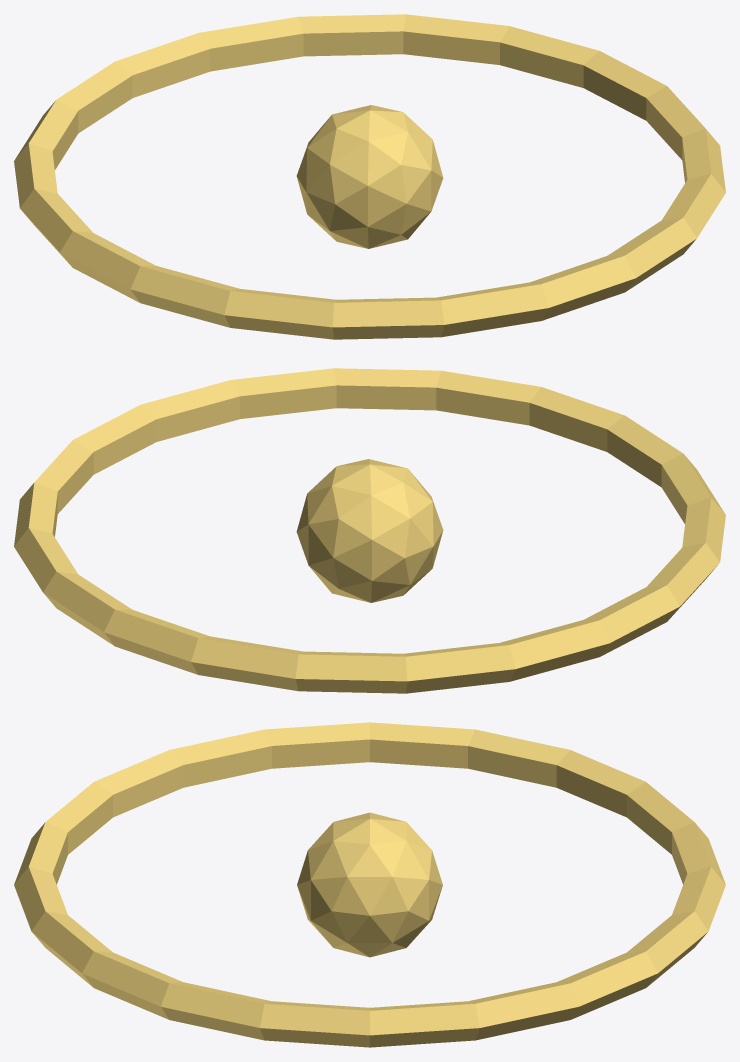
The model's file is grapple_target_marker.glb.
3 views of the same model, one above another, from view 1: azimuth 30°, elevation 25°; view 2: azimuth 150°, elevation 25°; view 3: azimuth 270°, elevation 25° (orthographic).
Visible parts, largest first — view 1: outline_ring, marker_core; view 2: outline_ring, marker_core; view 3: outline_ring, marker_core.
Part boxes in pixels (<box>): outline_ring: <box>14,14,725,339</box>; marker_core: <box>296,105,443,248</box>; outline_ring: <box>14,368,725,693</box>; marker_core: <box>296,459,443,602</box>; outline_ring: <box>14,722,725,1047</box>; marker_core: <box>297,812,442,957</box>.
Size of the model in its own units: 1.17 by 0.24 by 1.17.
